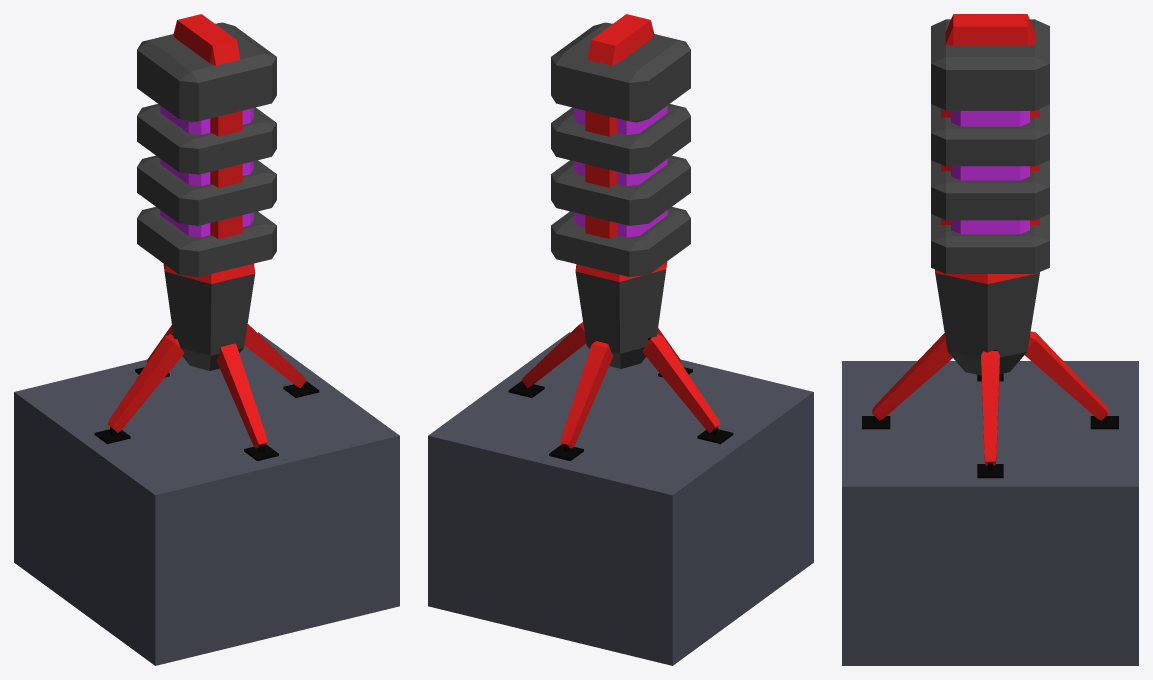
File: shieldBattery.fbx
3 views of the same model, side by side, from view 1: azimuth 30°, elevation 25°; view 2: azimuth 150°, elevation 25°; view 3: azimuth 270°, elevation 25° (orthographic). The views are drawn at different scales.
Parts seen in each view (by area): view 1: block_default_19, block_rounded_3, engine_airplane%_9, block_rounded_2, block_rounded_0, block_rounded_1, block_rounded_5, landing_craft%_0, landing_craft%_4, block_rounded_18, landing_craft%_3; view 2: block_default_19, block_rounded_3, engine_airplane%_9, block_rounded_2, block_rounded_0, block_rounded_1, block_rounded_5, landing_craft%_0, landing_craft%_2, block_rounded_18, landing_craft%_3; view 3: block_default_19, block_rounded_3, engine_airplane%_9, block_rounded_2, block_rounded_1, block_rounded_0, block_rounded_18, block_rounded_5, landing_craft%_2, landing_craft%_4, landing_craft%_3.
Part boxes in pixels (x1=…): block_default_19: x1=14, y1=332, x2=399, y2=665; block_rounded_3: x1=137, y1=22, x2=276, y2=122; engine_airplane%_9: x1=163, y1=263, x2=255, y2=370; block_rounded_2: x1=137, y1=104, x2=276, y2=174; block_rounded_0: x1=137, y1=207, x2=276, y2=276; block_rounded_1: x1=137, y1=155, x2=276, y2=225; block_rounded_5: x1=173, y1=14, x2=242, y2=238; landing_craft%_0: x1=94, y1=333, x2=184, y2=444; landing_craft%_4: x1=216, y1=343, x2=278, y2=460; block_rounded_18: x1=160, y1=105, x2=253, y2=237; landing_craft%_3: x1=244, y1=324, x2=319, y2=397; block_default_19: x1=428, y1=332, x2=813, y2=665; block_rounded_3: x1=551, y1=22, x2=690, y2=122; engine_airplane%_9: x1=575, y1=261, x2=667, y2=368; block_rounded_2: x1=551, y1=104, x2=690, y2=174; block_rounded_0: x1=551, y1=207, x2=690, y2=276; block_rounded_1: x1=551, y1=155, x2=690, y2=225; block_rounded_5: x1=585, y1=14, x2=654, y2=238; landing_craft%_0: x1=642, y1=334, x2=733, y2=444; landing_craft%_2: x1=549, y1=340, x2=613, y2=460; block_rounded_18: x1=574, y1=105, x2=667, y2=237; landing_craft%_3: x1=508, y1=322, x2=586, y2=397; block_default_19: x1=842, y1=361, x2=1138, y2=665; block_rounded_3: x1=931, y1=19, x2=1049, y2=110; engine_airplane%_9: x1=935, y1=269, x2=1039, y2=375; block_rounded_2: x1=931, y1=104, x2=1049, y2=166; block_rounded_1: x1=931, y1=160, x2=1049, y2=220; block_rounded_0: x1=931, y1=214, x2=1049, y2=273; block_rounded_18: x1=951, y1=111, x2=1029, y2=234; block_rounded_5: x1=941, y1=14, x2=1039, y2=225; landing_craft%_2: x1=1025, y1=331, x2=1118, y2=429; landing_craft%_4: x1=862, y1=333, x2=952, y2=429; landing_craft%_3: x1=977, y1=350, x2=1003, y2=478.
Bounding box in the file's own units: 30 × 65 × 30.
